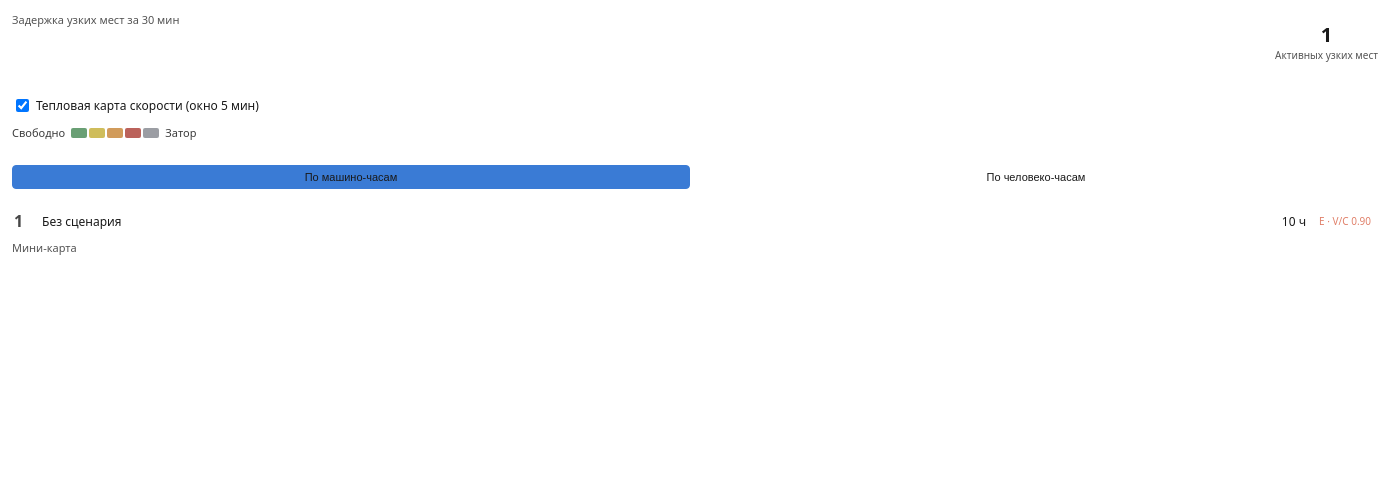
Test: BottlenecksTab › expanding a row with no recommendations shows the explicit empty state (docs/tasks/T-19 review: this is normal, not a bug)
This screenshot has width=1390, height=482.
Click the text "Без сценария" at {"x": 82, "y": 221}, box [42,212,122,230]
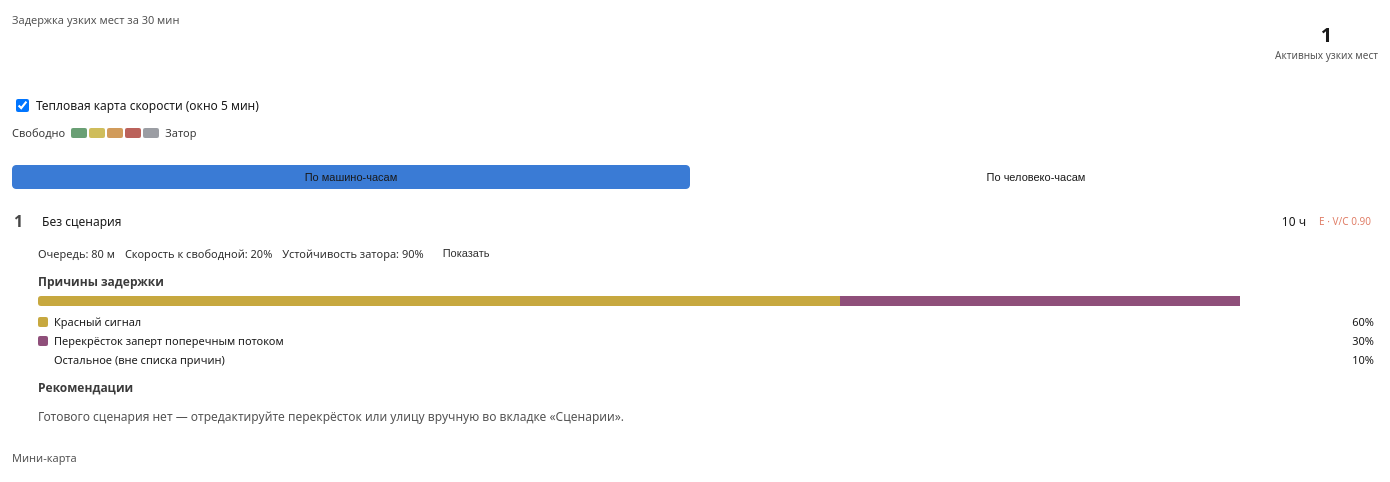
Result: the text "Готового сценария нет — отредактируйте перекрёсток или улицу вручную во вкладке «Сценарии»." is shown at [38,408,624,425]
